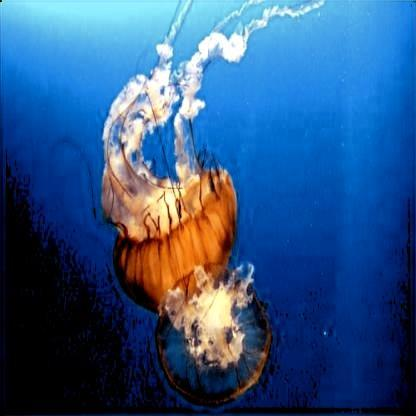Dressed: (103, 14, 277, 310), (154, 264, 273, 403)
